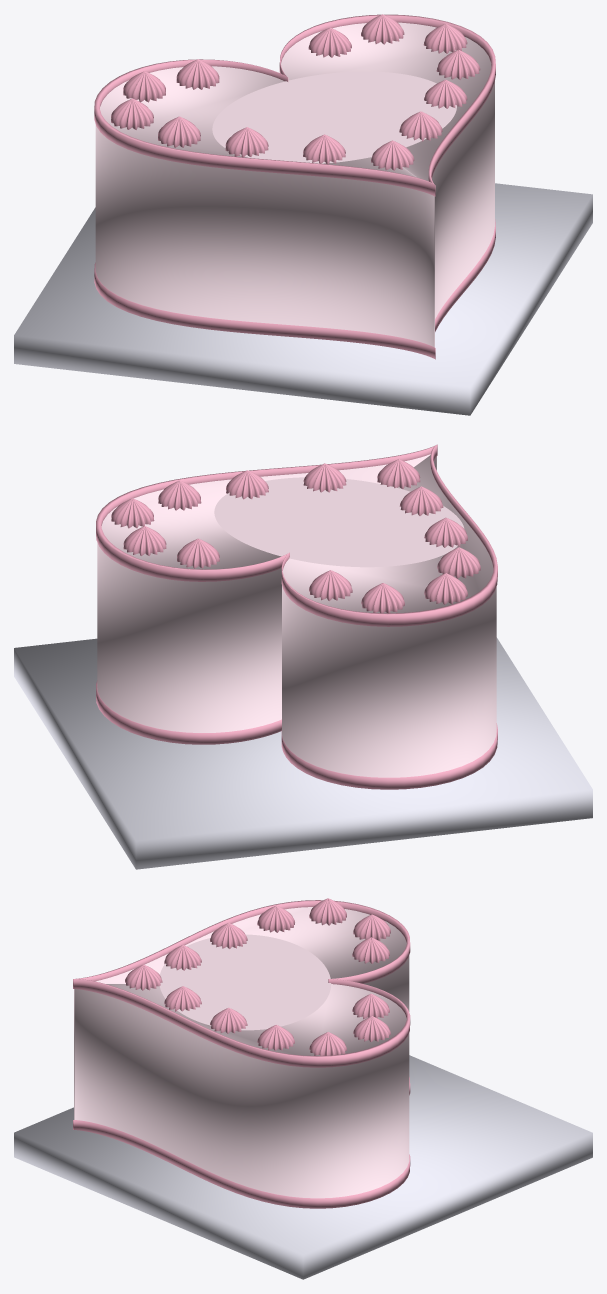
File: heart_strawberry_style1.glb
The picture shows the model from 3 angles, top to bottom: view 1: azimuth 30°, elevation 25°; view 2: azimuth 150°, elevation 25°; view 3: azimuth 270°, elevation 25°; orthographic projection. The views are drawn at different scales.
Visible parts, largest first — view 1: HeartCake, IcingStand, CakeTopCircle, IcingRing, IcingRing.001, design12, design9, design10, design11, design8, design2, design15 (+6 smaller); view 2: HeartCake, IcingStand, CakeTopCircle, IcingRing, IcingRing.001, design12, design10, design9, design11, design8, design3, design4 (+6 smaller); view 3: HeartCake, IcingStand, CakeTopCircle, IcingRing, IcingRing.001, design12, design9, design11, design10, design4, design2, design15 (+6 smaller).
Boxes of the visible parts, bbox=[...] form: HeartCake: bbox=[95, 22, 494, 347]; IcingStand: bbox=[14, 183, 592, 415]; CakeTopCircle: bbox=[212, 71, 456, 163]; IcingRing: bbox=[94, 14, 495, 196]; IcingRing.001: bbox=[94, 219, 495, 359]; design12: bbox=[111, 98, 153, 129]; design9: bbox=[158, 116, 200, 147]; design10: bbox=[123, 71, 165, 102]; design11: bbox=[176, 59, 219, 89]; design8: bbox=[225, 127, 268, 157]; design2: bbox=[371, 140, 414, 170]; design15: bbox=[361, 14, 404, 44]; HeartCake: bbox=[97, 454, 496, 777]; IcingStand: bbox=[14, 637, 592, 869]; CakeTopCircle: bbox=[214, 477, 464, 567]; IcingRing: bbox=[96, 444, 497, 626]; IcingRing.001: bbox=[96, 680, 497, 789]; design12: bbox=[424, 573, 467, 604]; design10: bbox=[361, 583, 404, 613]; design9: bbox=[437, 547, 480, 578]; design11: bbox=[309, 570, 352, 600]; design8: bbox=[424, 517, 467, 547]; design3: bbox=[111, 498, 154, 528]; design4: bbox=[158, 480, 201, 510]; HeartCake: bbox=[74, 907, 409, 1198]; IcingStand: bbox=[14, 1055, 592, 1279]; CakeTopCircle: bbox=[159, 934, 331, 1030]; IcingRing: bbox=[73, 900, 410, 1067]; IcingRing.001: bbox=[73, 1077, 410, 1208]; design12: bbox=[309, 898, 346, 925]; design9: bbox=[257, 905, 294, 932]; design11: bbox=[352, 937, 389, 963]; design10: bbox=[353, 914, 390, 940]; design4: bbox=[257, 1024, 294, 1050]; design2: bbox=[125, 964, 162, 990]; design15: bbox=[353, 1016, 390, 1041].
Size of the model in its own units: 4.24 by 1.56 by 4.24.
